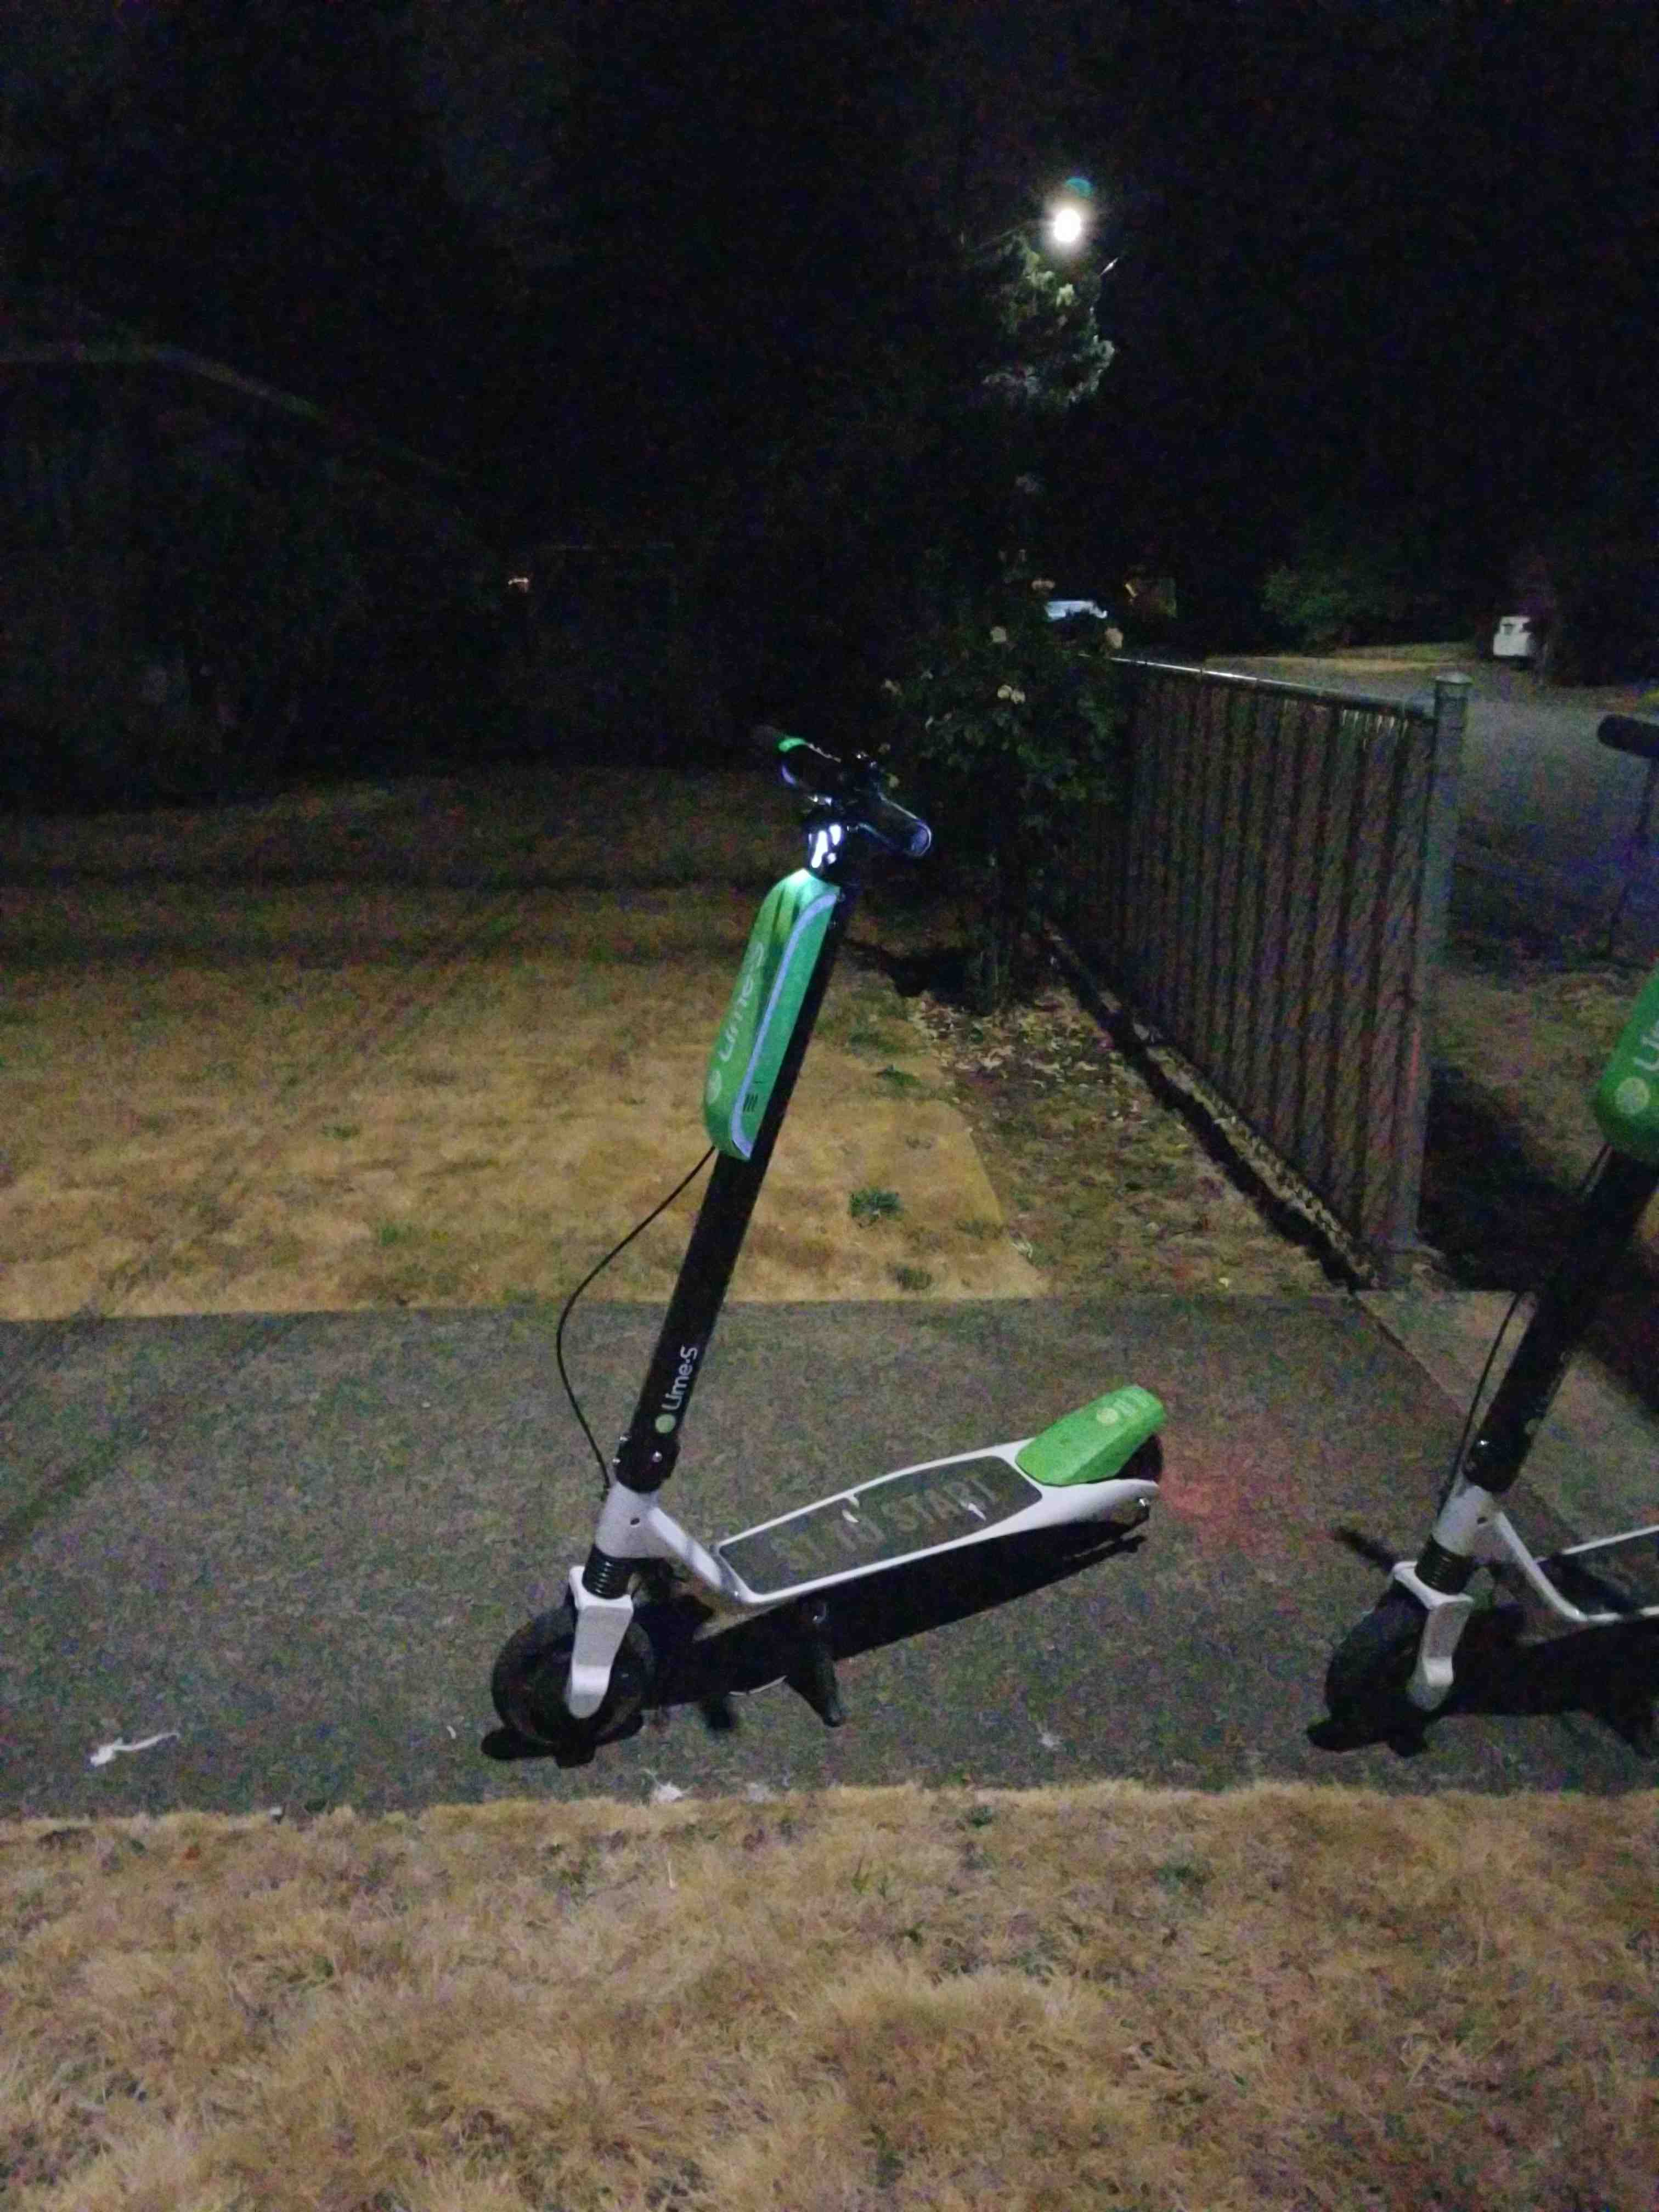scooter: (479, 691, 1229, 1813)
